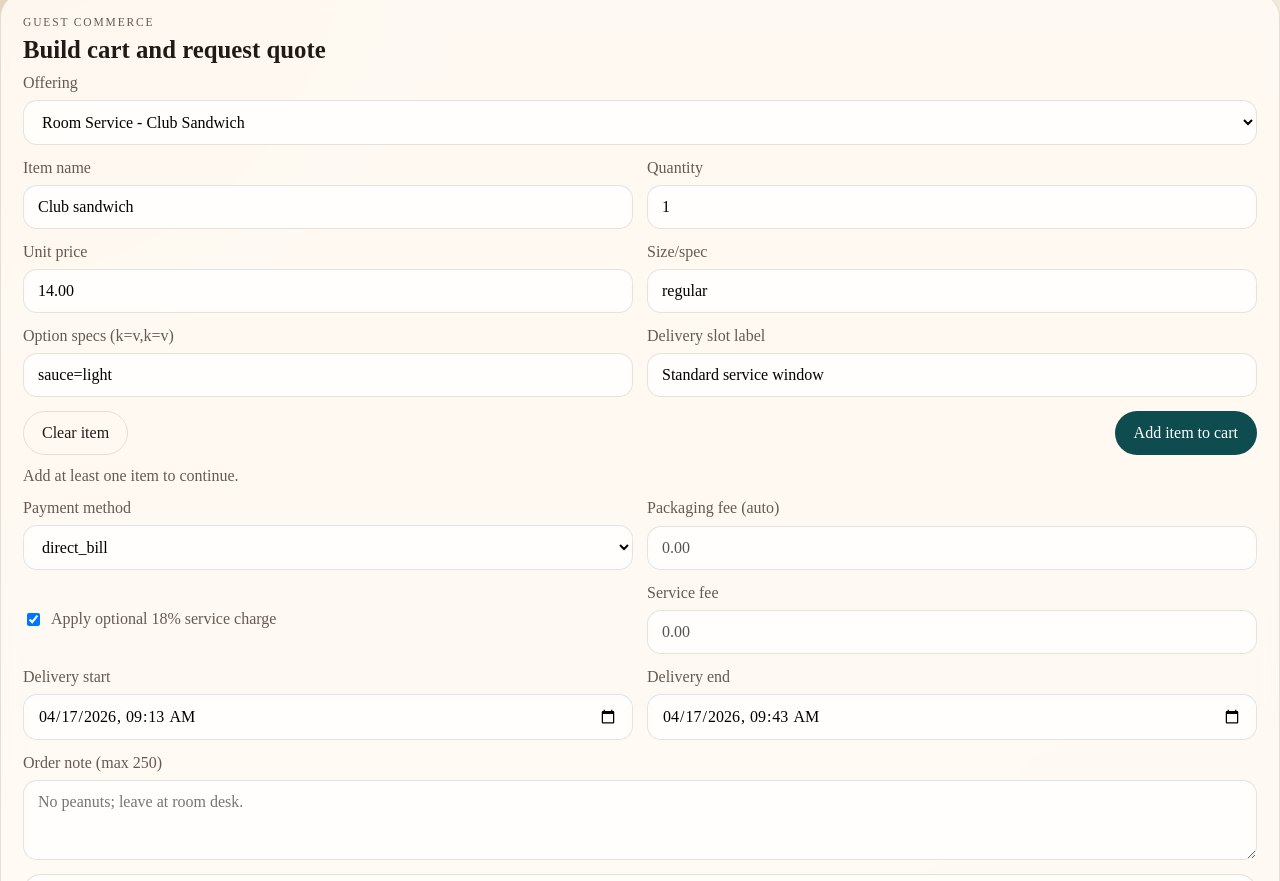
it: OrderComposer › blocks cart submit when delivery window is invalid
Submit the form that starts with "Offering", box [23,74,1257,455]
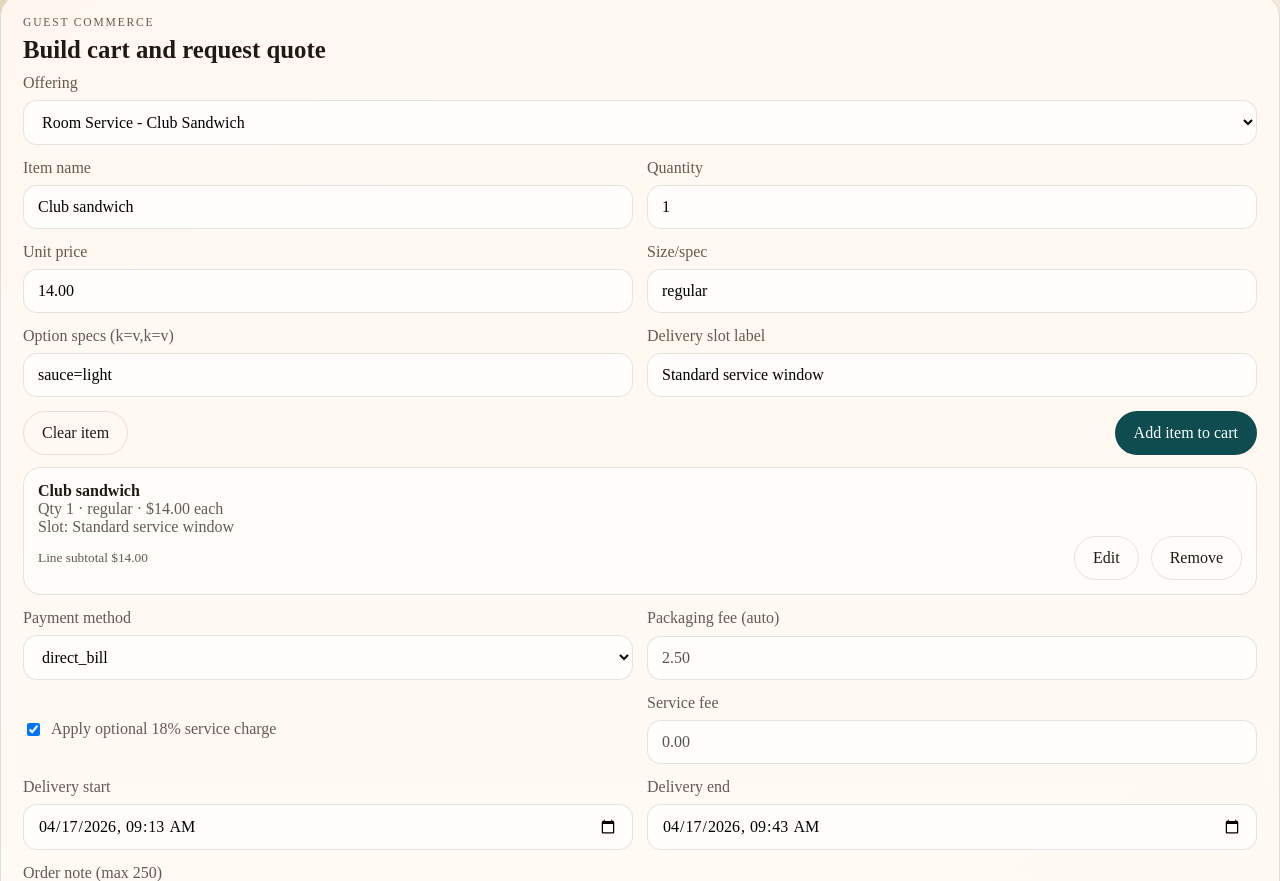
Replace the text in the field labelled "Delivery start" with "2026-03-29T18:00": (328, 827) [23,804,633,850]
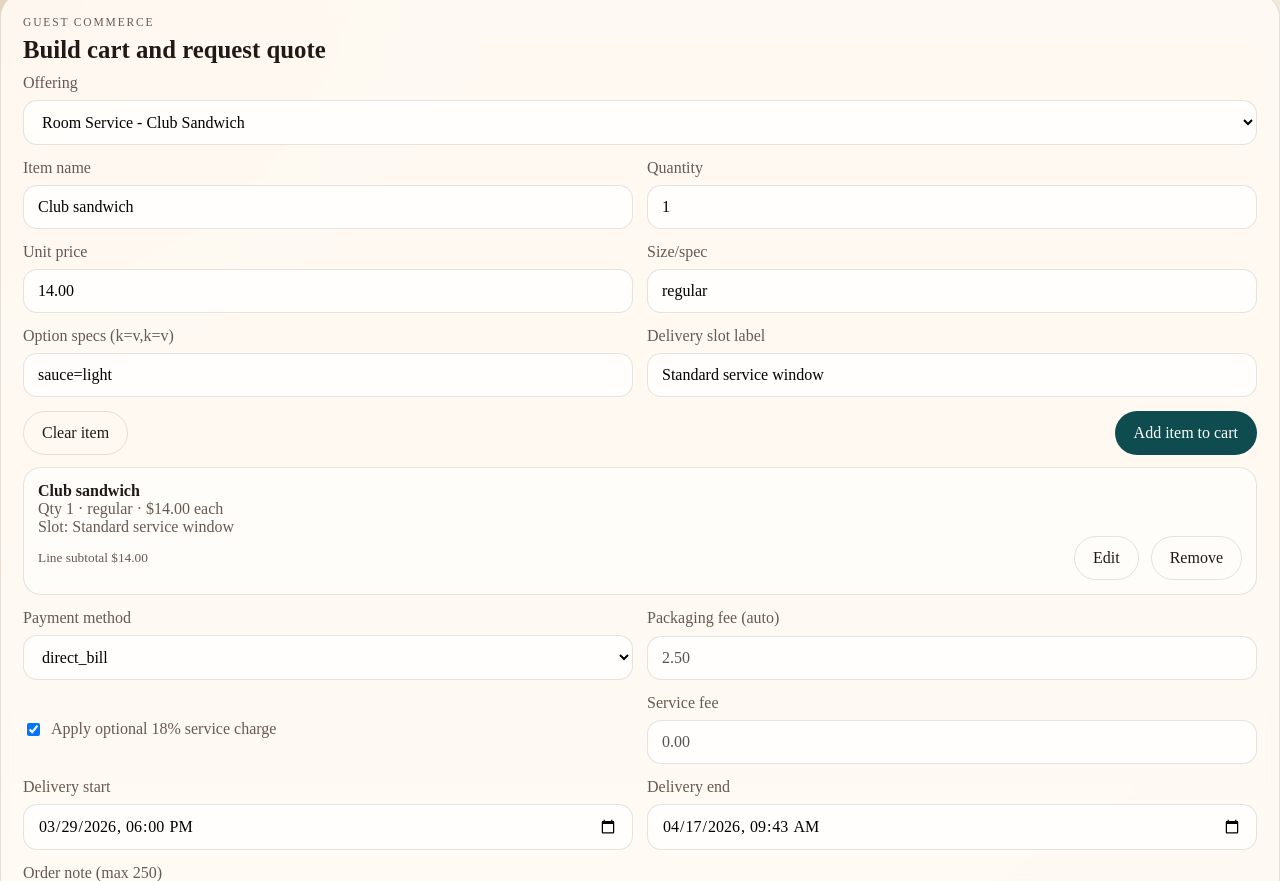
Replace the text in the field labelled "Delivery end" with "2026-03-29T17:00": (952, 827) [647,804,1257,850]
(page scrolled)
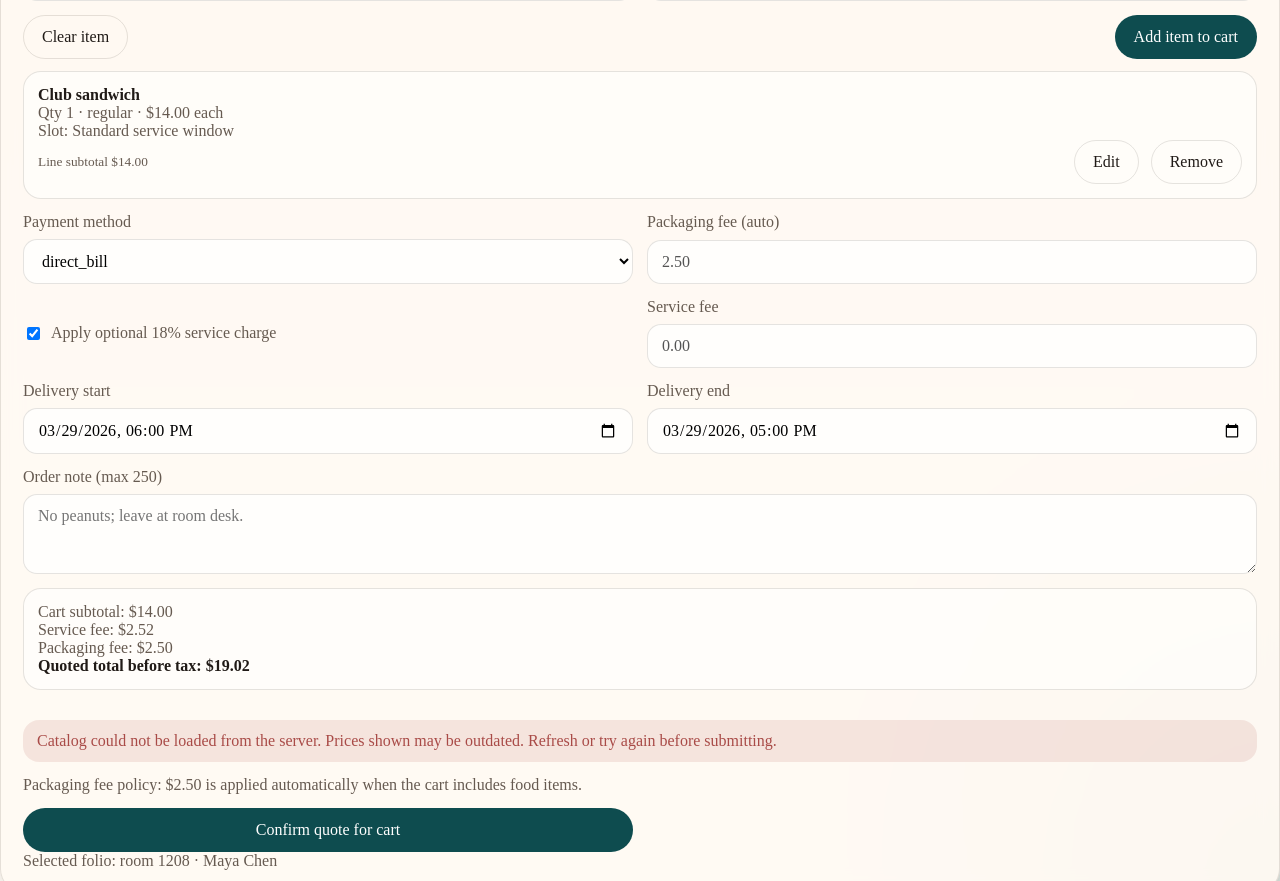
Submit the form that starts with "Payment method"
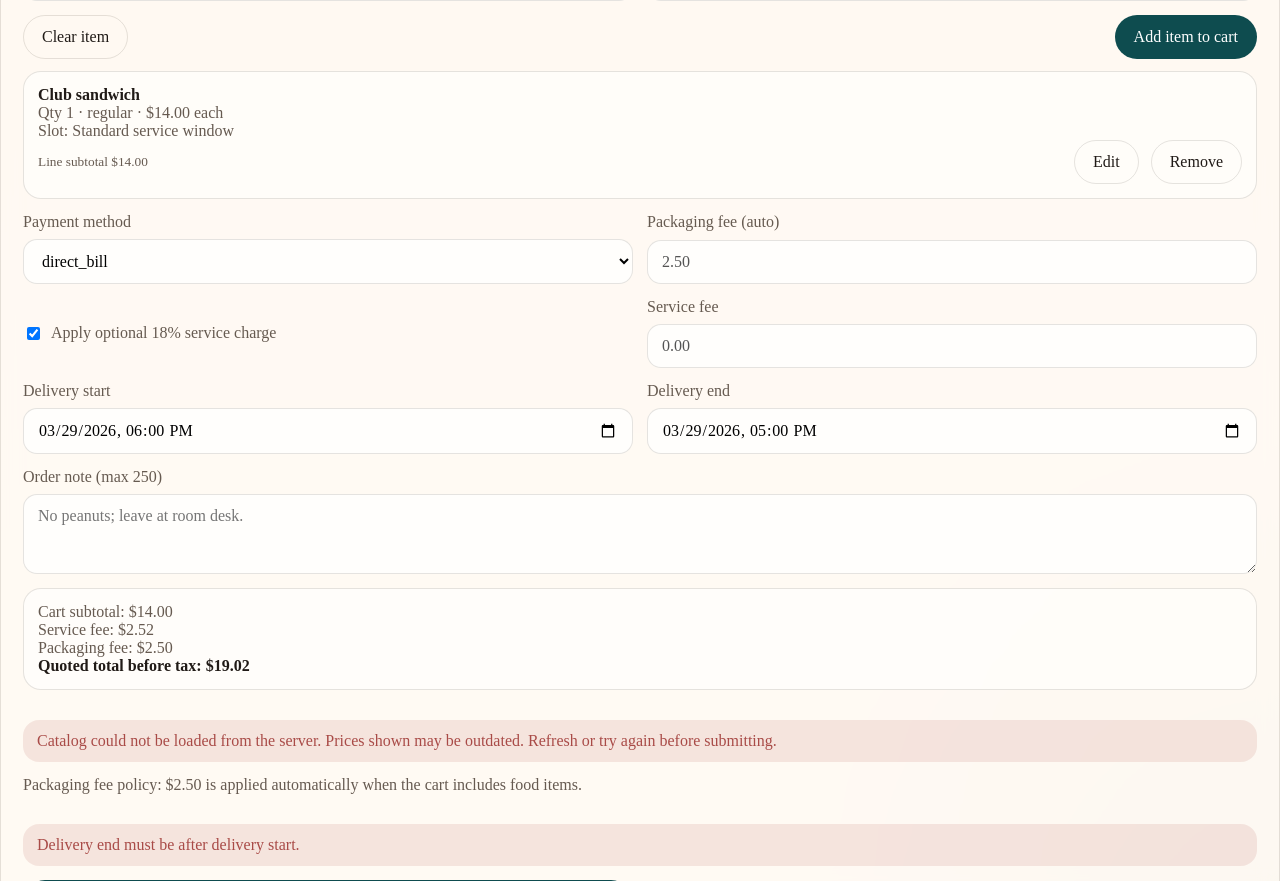
Expected: the text "Delivery end must be after delivery start." is shown, [23,824,1257,866]
